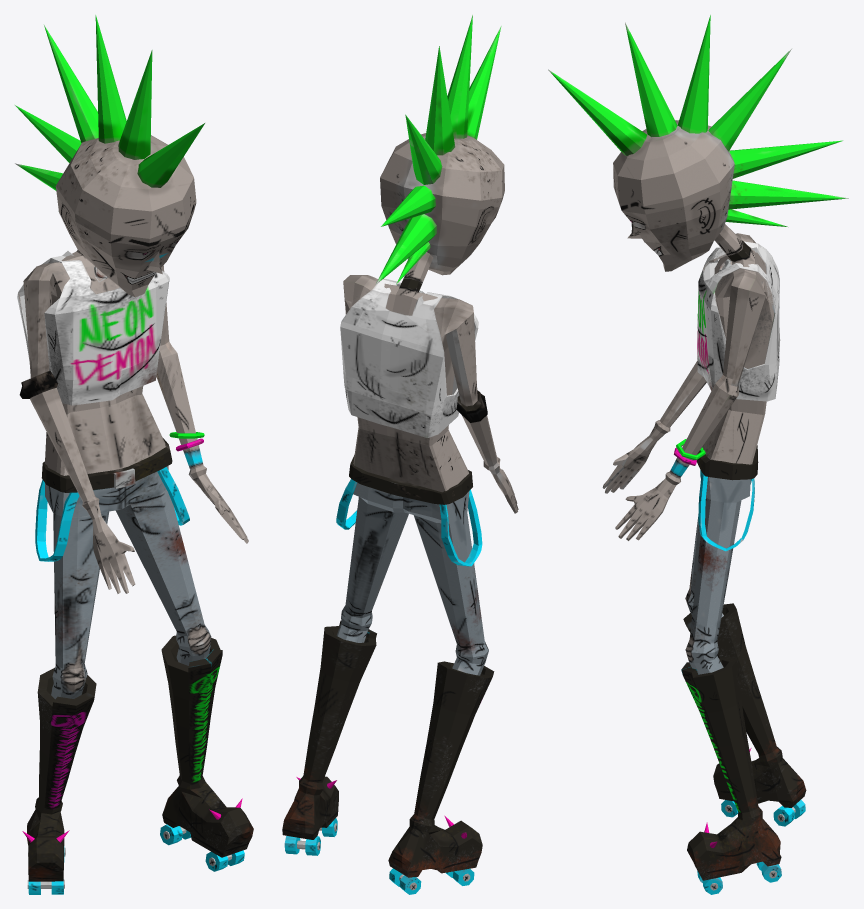
Rendered from punkAnimation_000026.obj.
3 renders of one model, left to right at view 1: azimuth 30°, elevation 25°; view 2: azimuth 150°, elevation 25°; view 3: azimuth 270°, elevation 25°, orthographic. The views are drawn at different scales.
Visible parts, largest first — view 1: Cube.004_Cube.003; view 2: Cube.004_Cube.003; view 3: Cube.004_Cube.003.
Boxes of the visible parts, bbox=[...] form: Cube.004_Cube.003: bbox=[15, 15, 253, 894]; Cube.004_Cube.003: bbox=[282, 15, 518, 894]; Cube.004_Cube.003: bbox=[548, 15, 848, 894].
Bounding box in the file's own units: 1.88 × 7.41 × 2.49.
